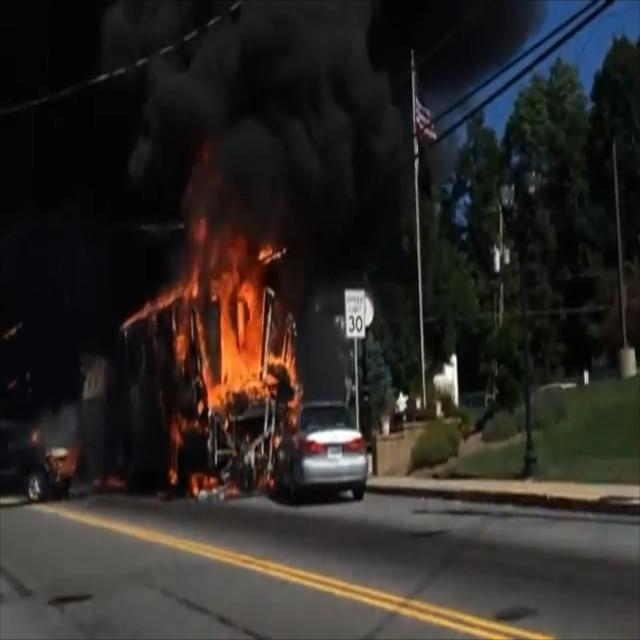fire: (149, 204, 283, 489)
